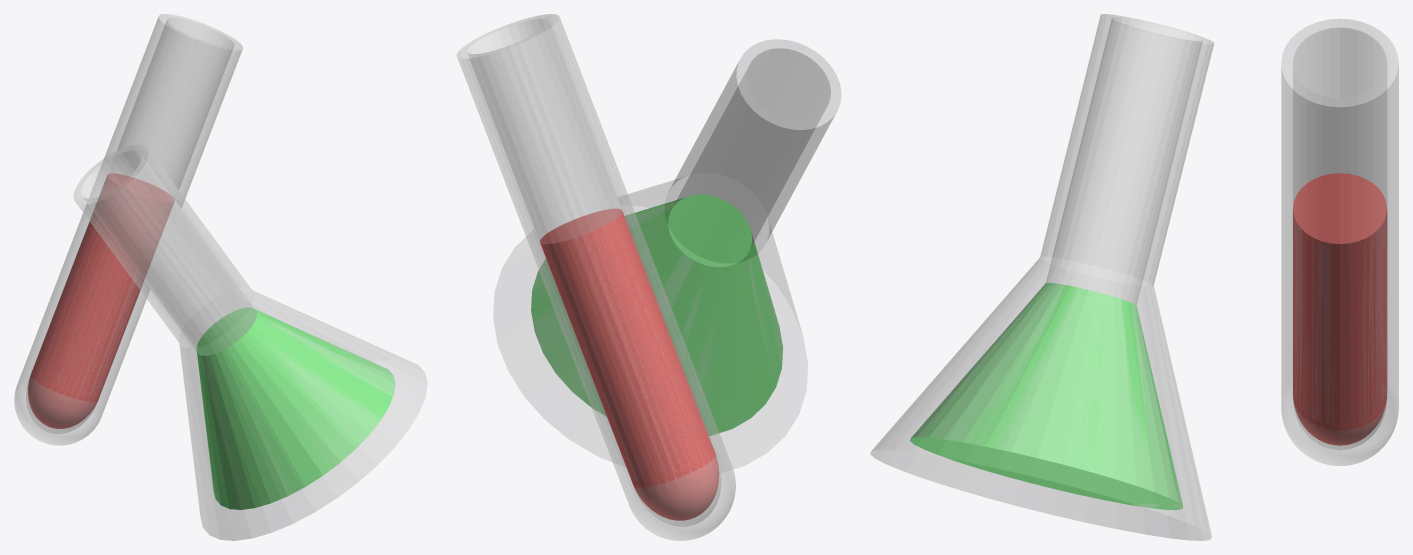
File: research-collectable-asset.fbx
3 renders of one model, left to right at view 1: azimuth 30°, elevation 25°; view 2: azimuth 150°, elevation 25°; view 3: azimuth 270°, elevation 25°, orthographic. The views are drawn at different scales.
Visible parts, largest first — view 1: Cone, Cylinder, Cone.001, Cylinder.002; view 2: Cone, Cylinder, Cone.001, Cylinder.002; view 3: Cone, Cylinder, Cone.001, Cylinder.002.
Boxes of the visible parts, x1=… form: Cone: x1=73, y1=144, x2=427, y2=540; Cylinder: x1=14, y1=14, x2=242, y2=445; Cone.001: x1=196, y1=307, x2=395, y2=509; Cylinder.002: x1=28, y1=173, x2=174, y2=428; Cone: x1=493, y1=39, x2=841, y2=472; Cylinder: x1=456, y1=14, x2=735, y2=540; Cone.001: x1=531, y1=194, x2=782, y2=435; Cylinder.002: x1=540, y1=208, x2=719, y2=520; Cone: x1=870, y1=14, x2=1214, y2=540; Cylinder: x1=1281, y1=18, x2=1398, y2=465; Cone.001: x1=909, y1=283, x2=1182, y2=510; Cylinder.002: x1=1293, y1=173, x2=1387, y2=445.
Size of the model in its own units: 752 by 1017 by 899.
